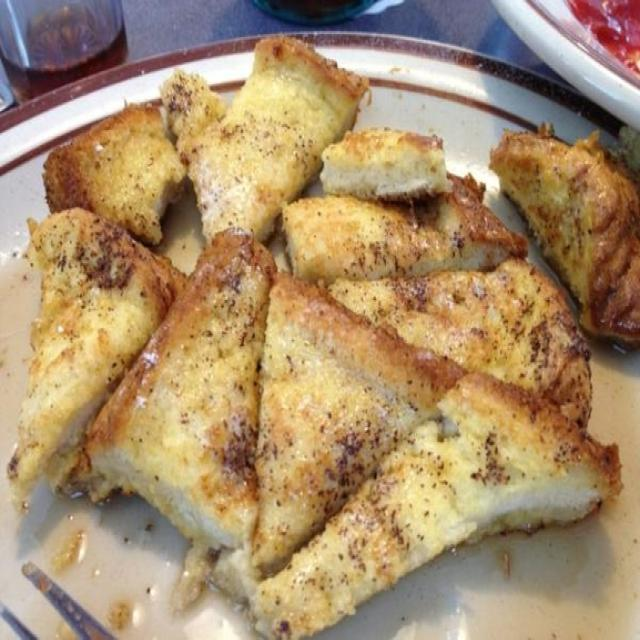面包点心: (3, 18, 636, 634)
